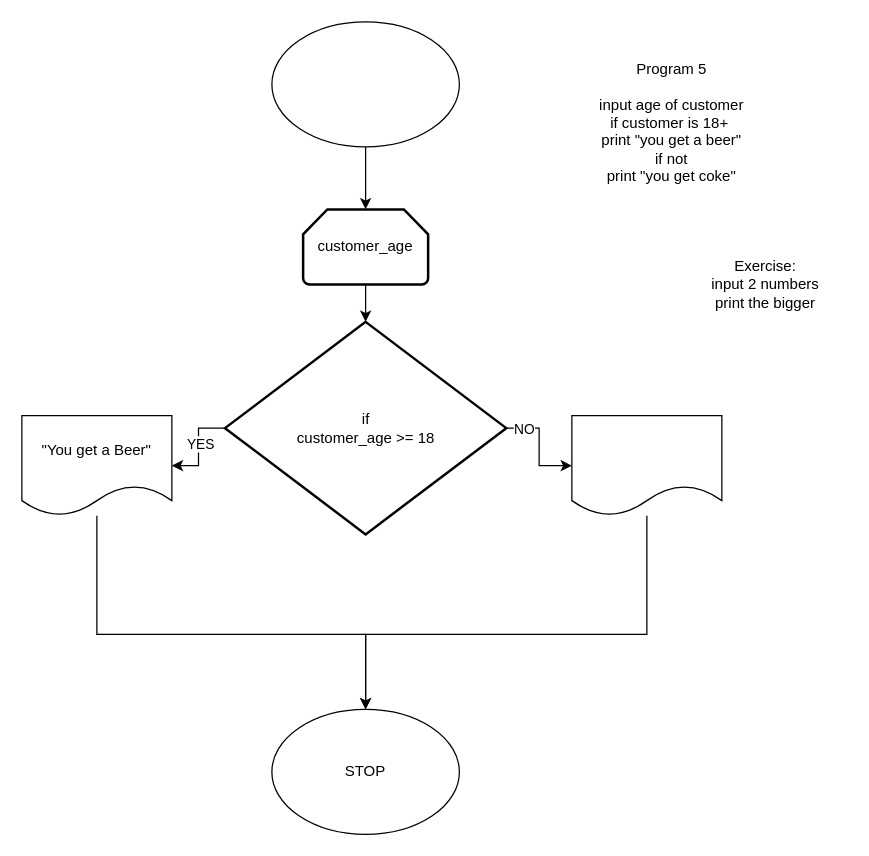
This 869x856 diagram has some shape labels left out. The shapes that lost their labels are listed below. From the top down, each one's centre as x and y in pixels, then its label:
point (365, 84): START
point (646, 465): "You get a Coke"
